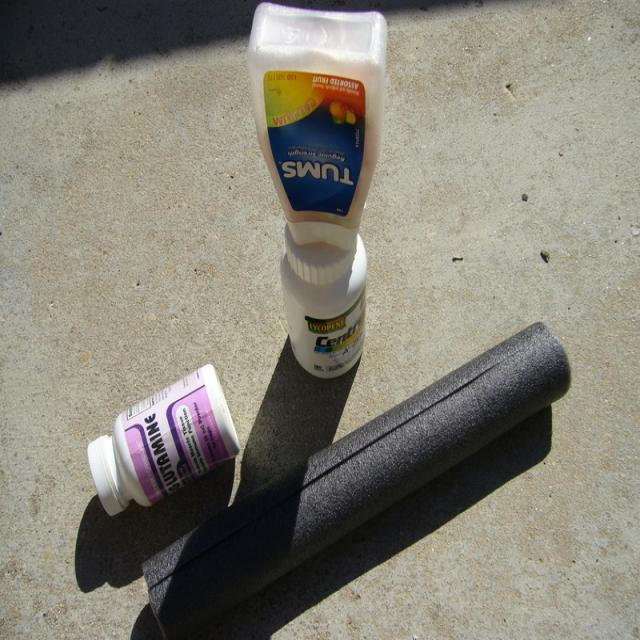container- bottle - jar: (249, 4, 387, 250), (88, 364, 239, 515), (281, 226, 367, 377)
